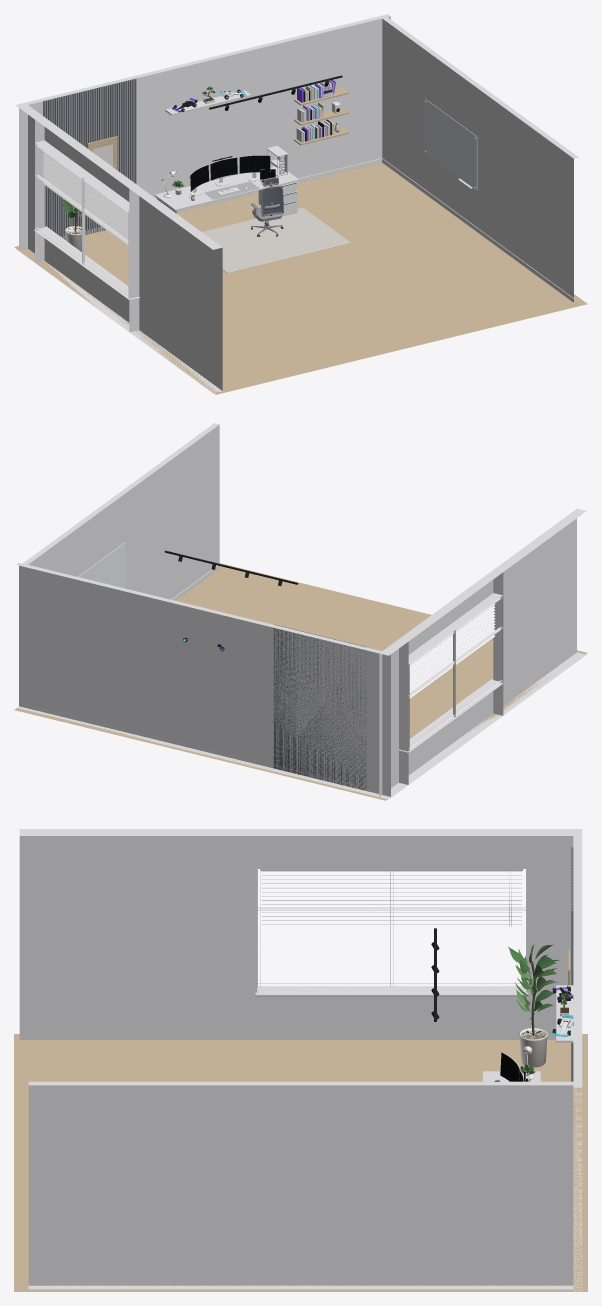
File: estudio.glb
3 views of the same model, one above another, from view 1: azimuth 30°, elevation 25°; view 2: azimuth 150°, elevation 25°; view 3: azimuth 270°, elevation 25° (orthographic). The views are drawn at different scales.
Visible parts, largest first — view 1: static, board_face, chair_mesh; view 2: static, board_face; view 3: static.
Boxes of the visible parts, box(x1,y1,x2,y2) form: static: box(14, 14, 587, 394); board_face: box(425, 100, 476, 188); chair_mesh: box(251, 177, 283, 236); static: box(14, 423, 587, 800); board_face: box(79, 543, 125, 588); static: box(14, 829, 587, 1291).
Size of the model in its own units: 8.42 by 3.1 by 7.9.
